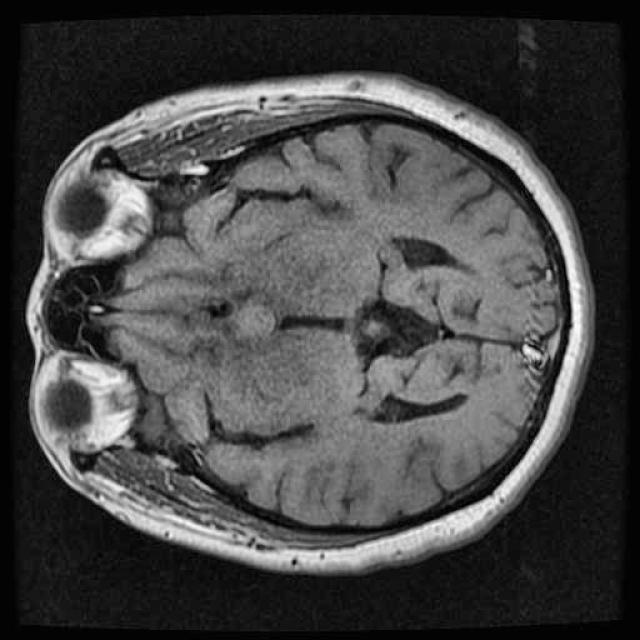Tumor: (211, 275, 304, 368)
